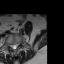CCS_normal: (13, 42, 15, 50)
LFS_normal: (17, 40, 19, 48)
LLS_normal: (15, 42, 17, 50)
RFS_normal: (9, 42, 11, 49)
RLS_normal: (11, 42, 13, 50)
